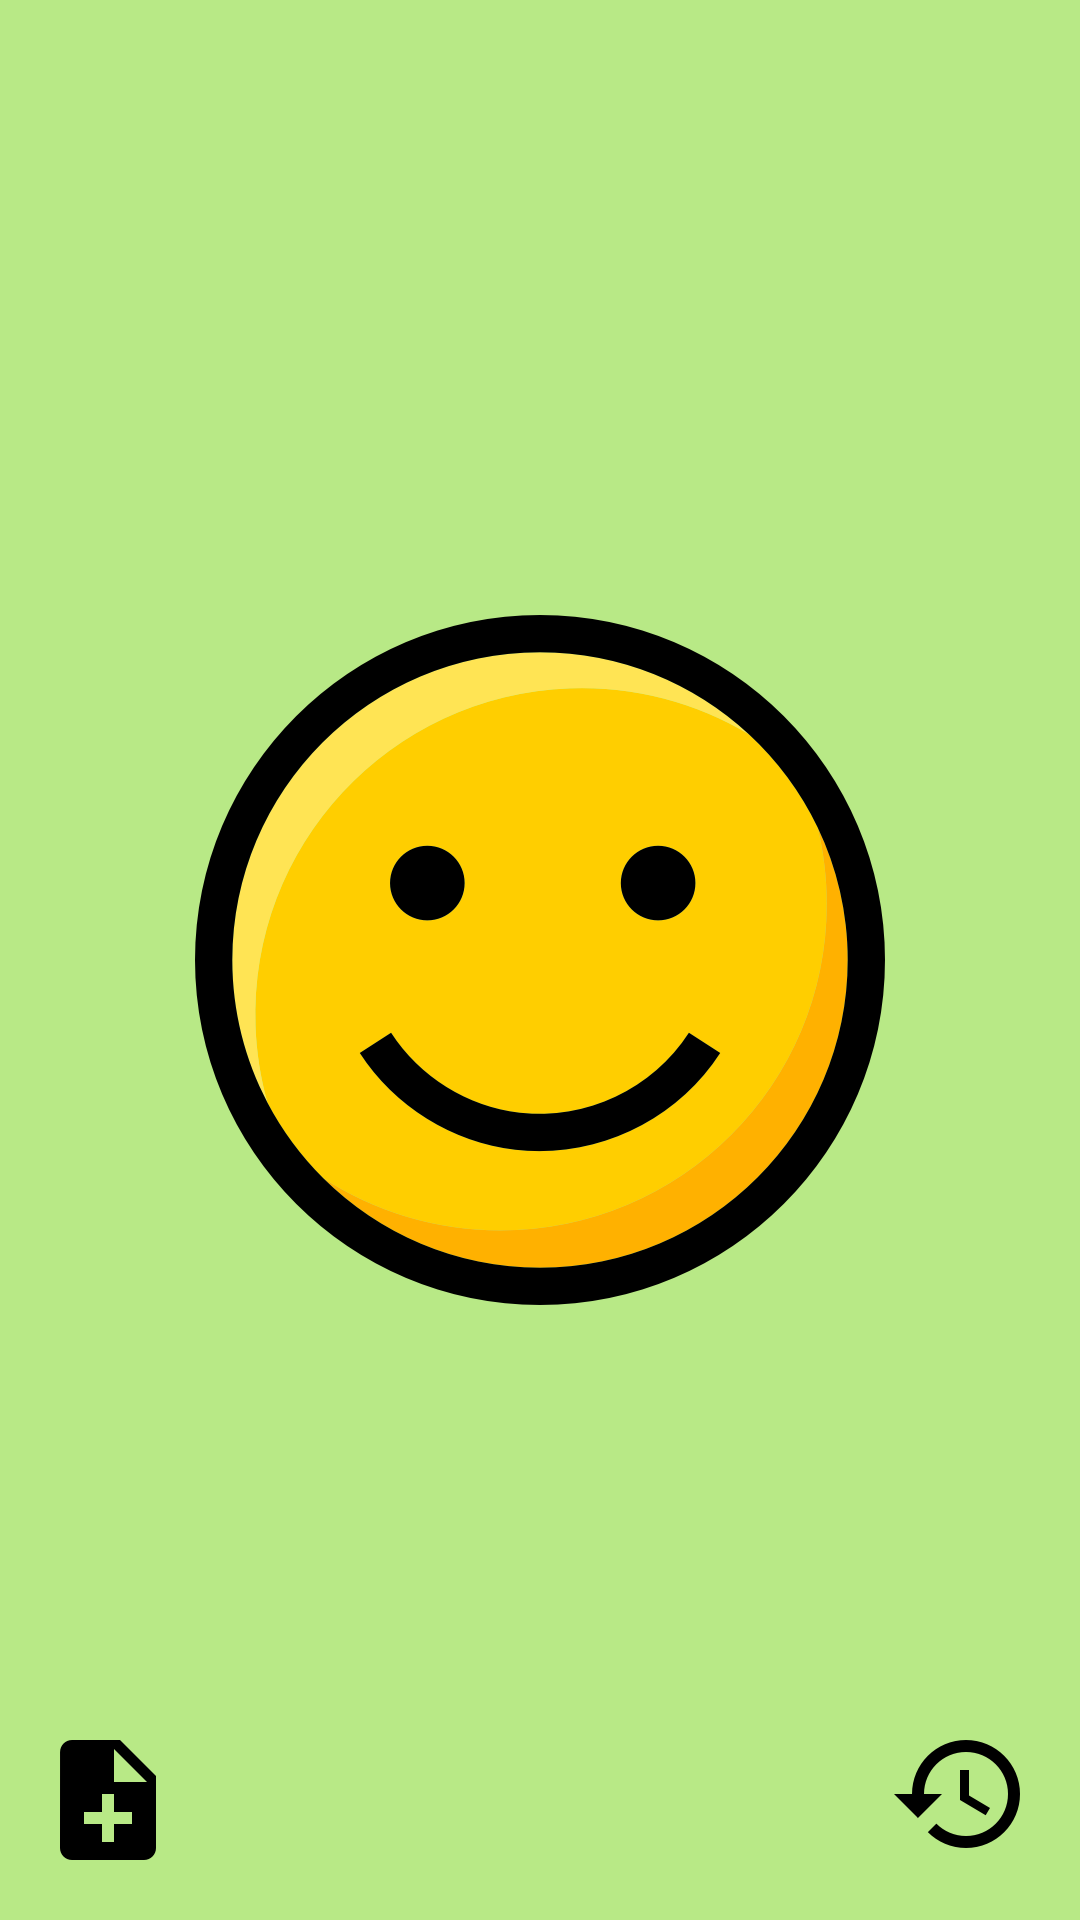

Named icons in this screenshot (1080 x 1920) and their bounding boxes, (x1, y1, x2, y2):
Get your mood history on past 7 day !: (894, 1740, 1020, 1848)
Tell why you feel like this today !: (60, 1740, 156, 1860)
